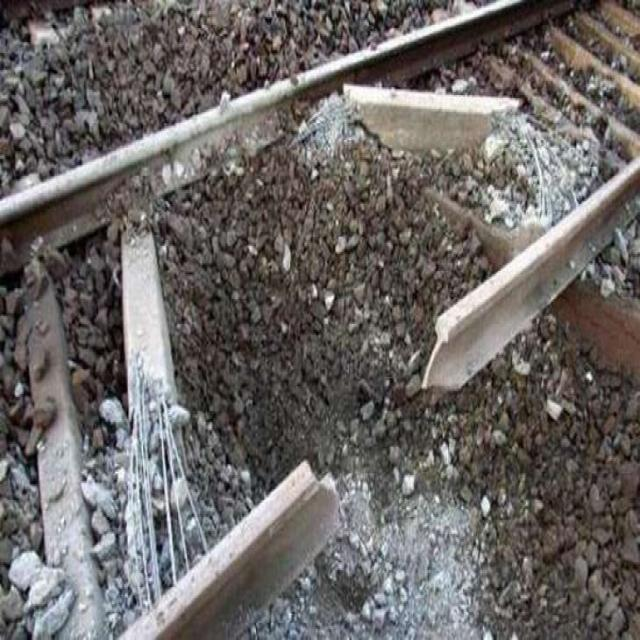defective: (259, 299, 540, 593)
